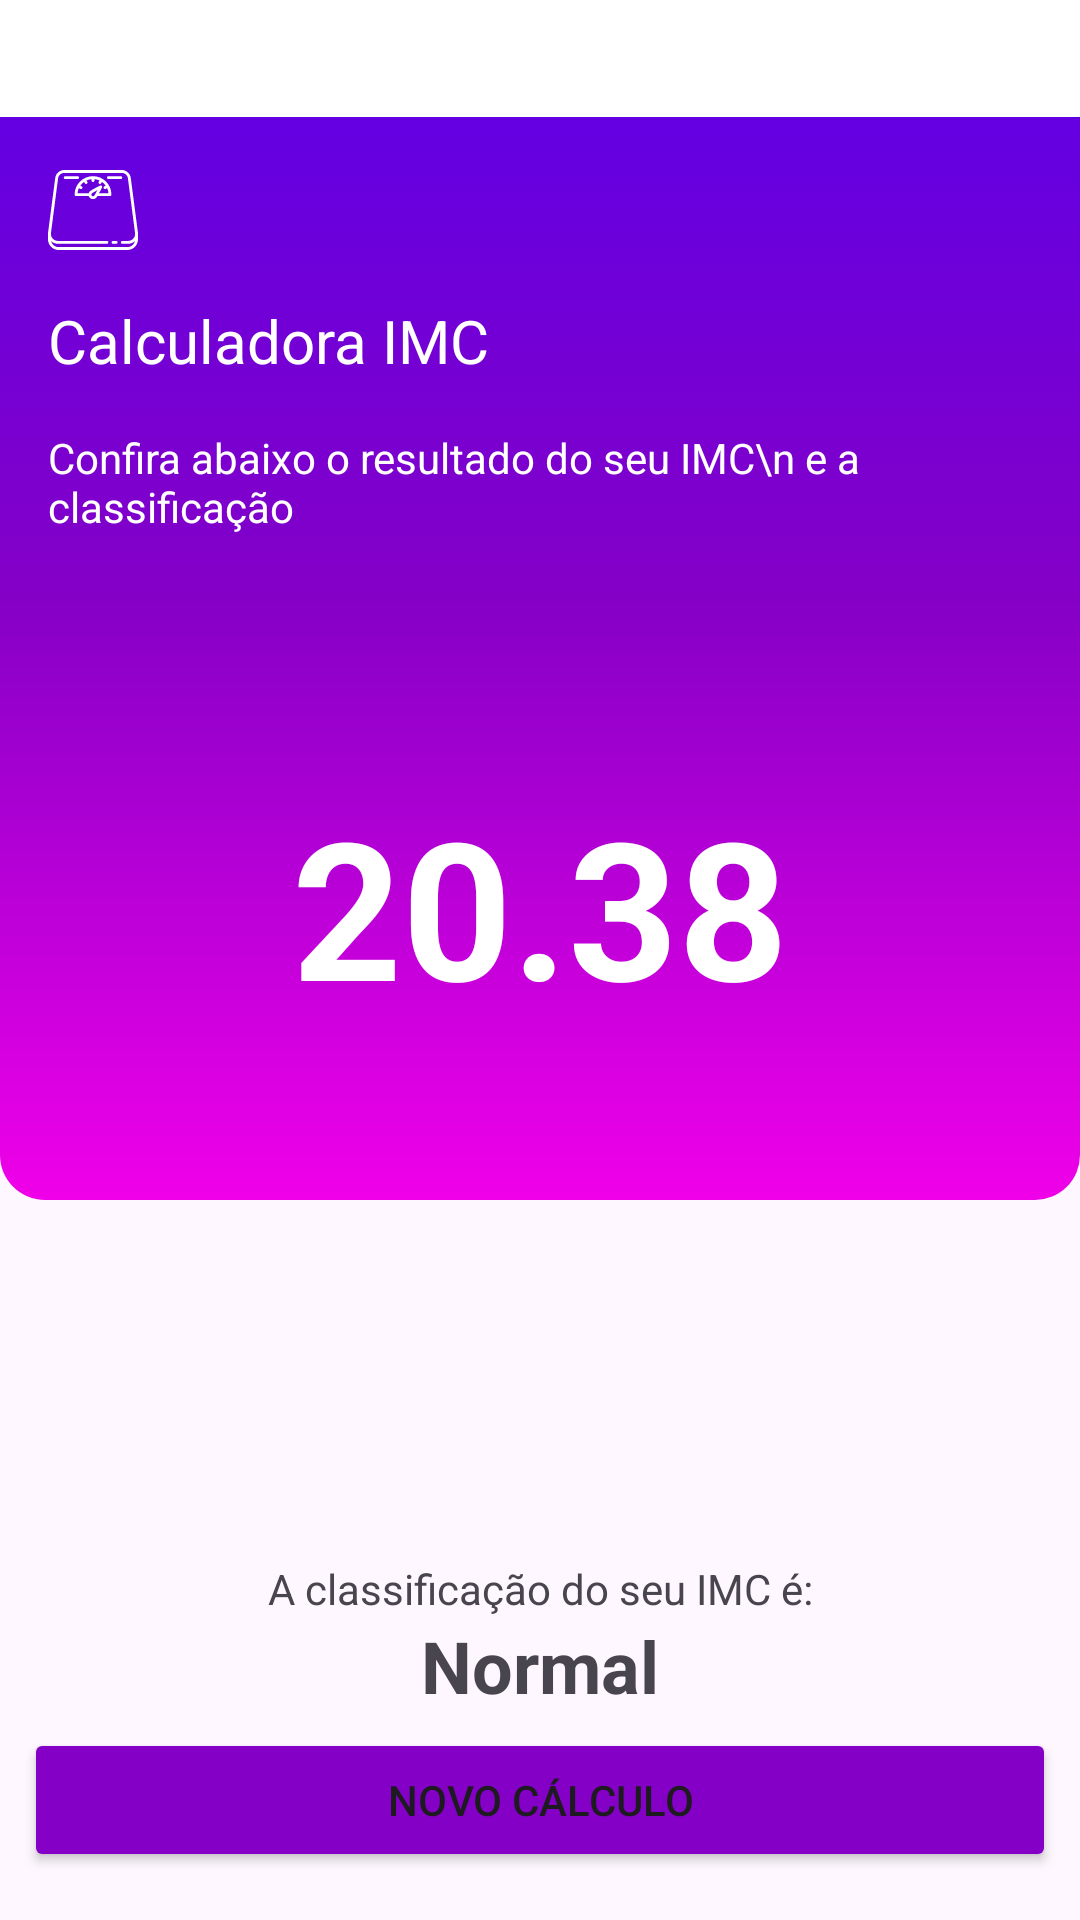

Icon bounding boxes for this 1080px×1920px phone screenshot, format bbox(x1, y1, x2, y2):
balanca: bbox(48, 170, 138, 250)
